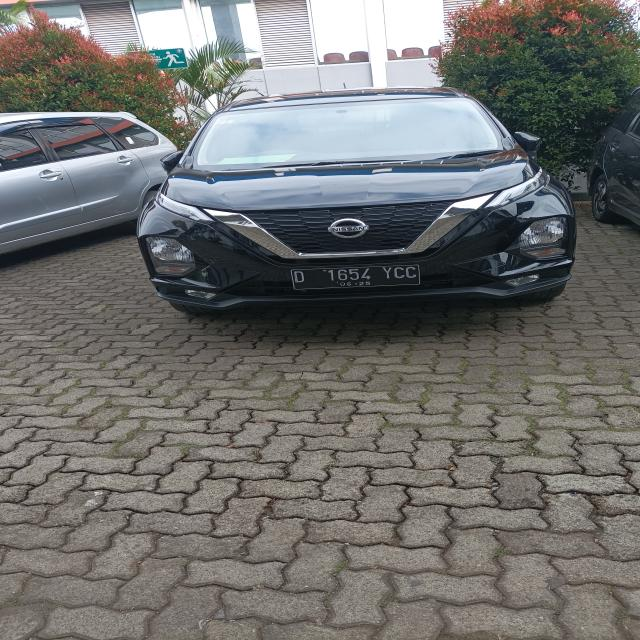license-plat: (278, 256, 439, 306)
